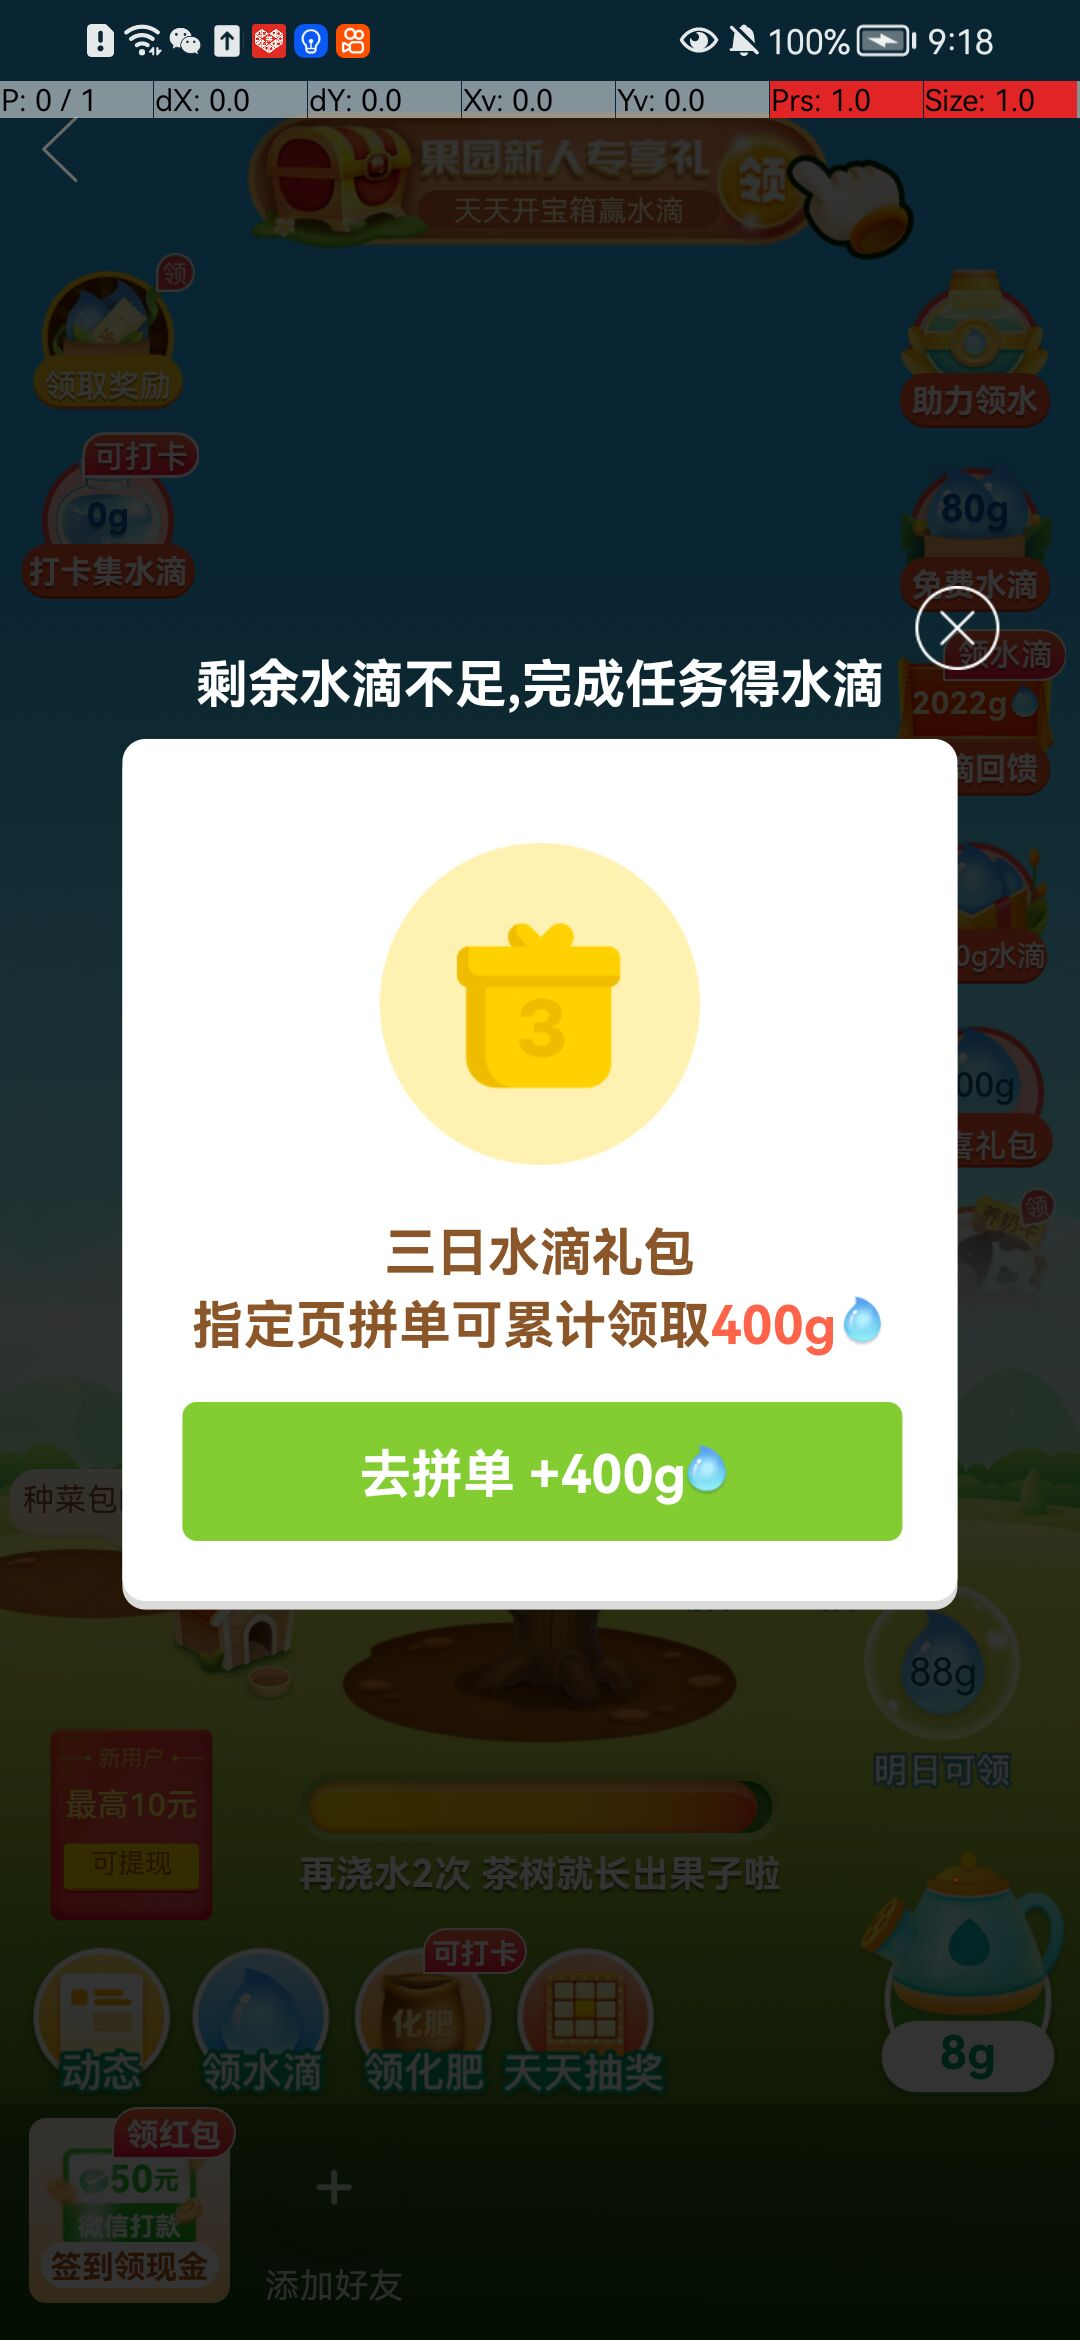popup: (919, 597, 988, 663)
